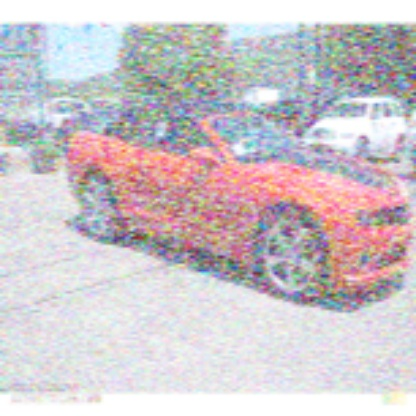Vehicle: (64, 98, 415, 306)
